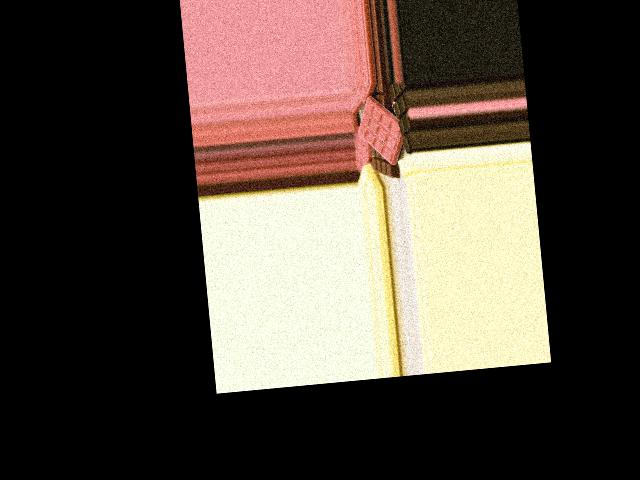chocolate: (353, 92, 414, 167)
